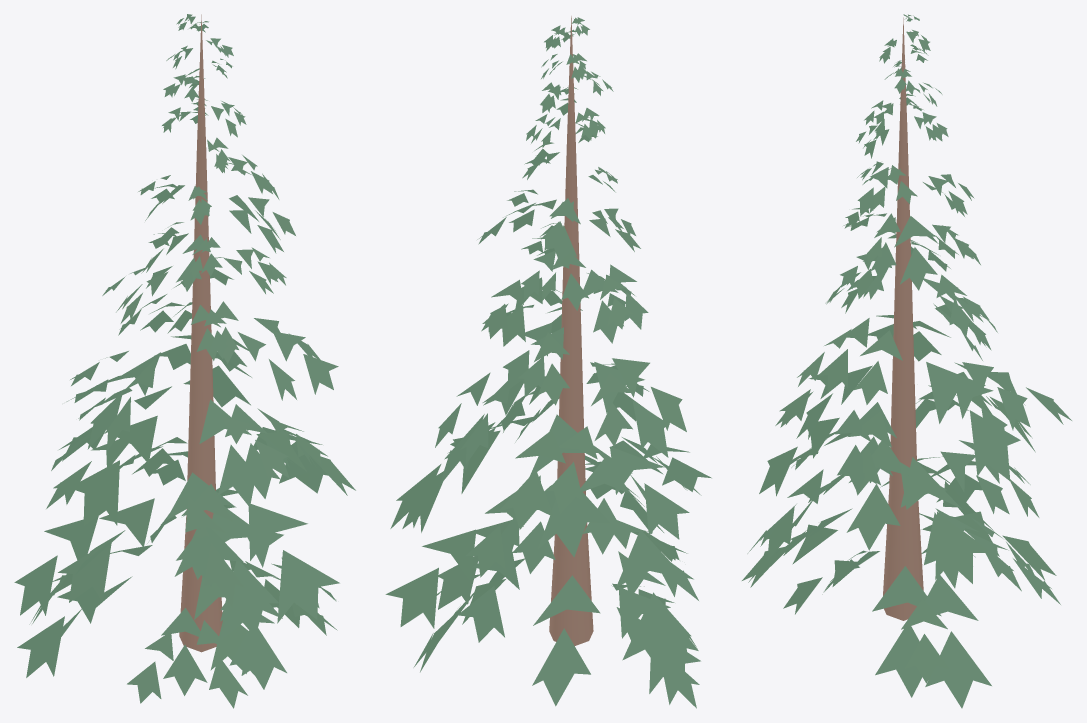
Rendered from Blender_YoungRedwood_2_Far.glb.
The picture shows the model from 3 angles, left to right: view 1: azimuth 30°, elevation 25°; view 2: azimuth 150°, elevation 25°; view 3: azimuth 270°, elevation 25°; orthographic projection. The views are drawn at different scales.
Visible parts, largest first — view 1: Blender_YoungRedwood_2_Far; view 2: Blender_YoungRedwood_2_Far; view 3: Blender_YoungRedwood_2_Far.
Part boxes in pixels (left/top/right/bottom): Blender_YoungRedwood_2_Far: left=14, top=14, right=355, bottom=708; Blender_YoungRedwood_2_Far: left=385, top=16, right=711, bottom=708; Blender_YoungRedwood_2_Far: left=742, top=14, right=1071, bottom=708.
Size of the model in its own units: 11.25 by 23.09 by 10.97.
